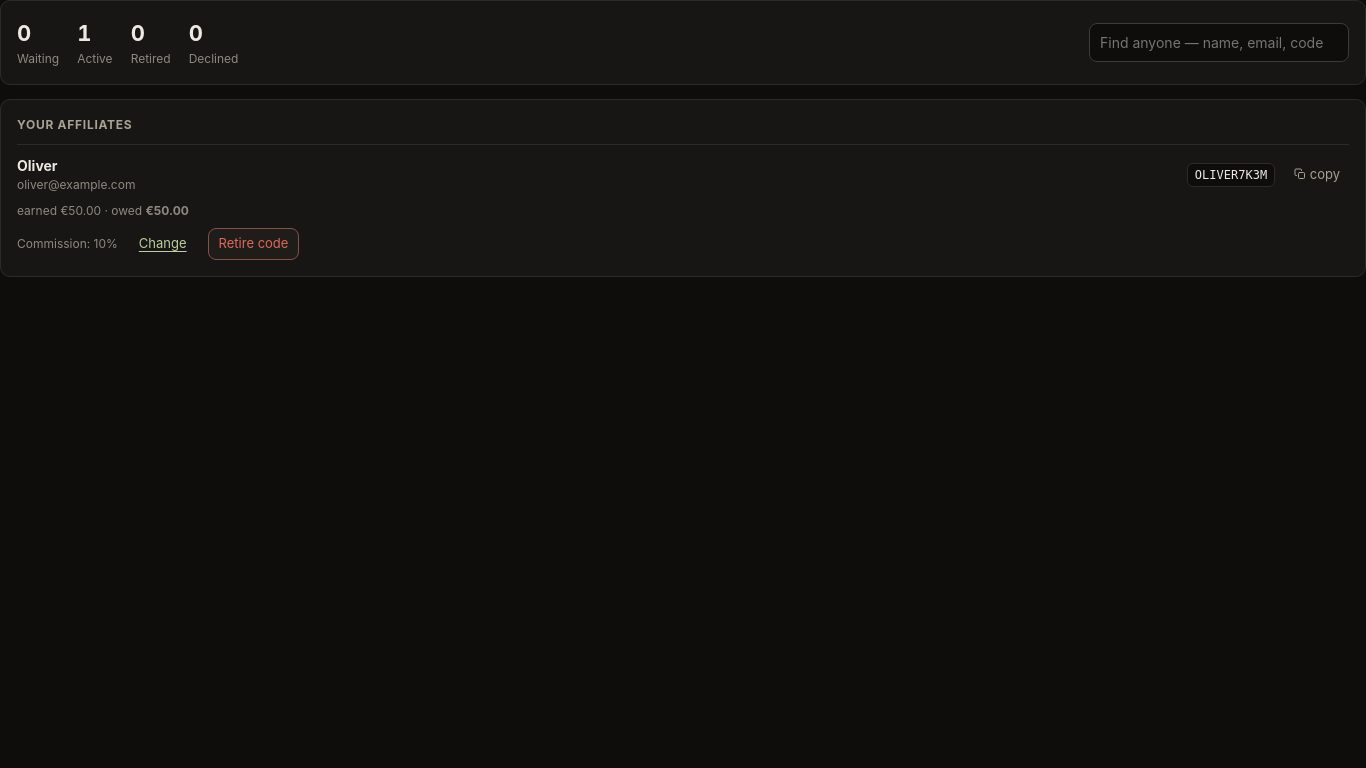
Test: retiring a code › names the code, and promises their earnings are kept
Click the button "Retire code".
click(254, 244)  # box [208,228,299,260]
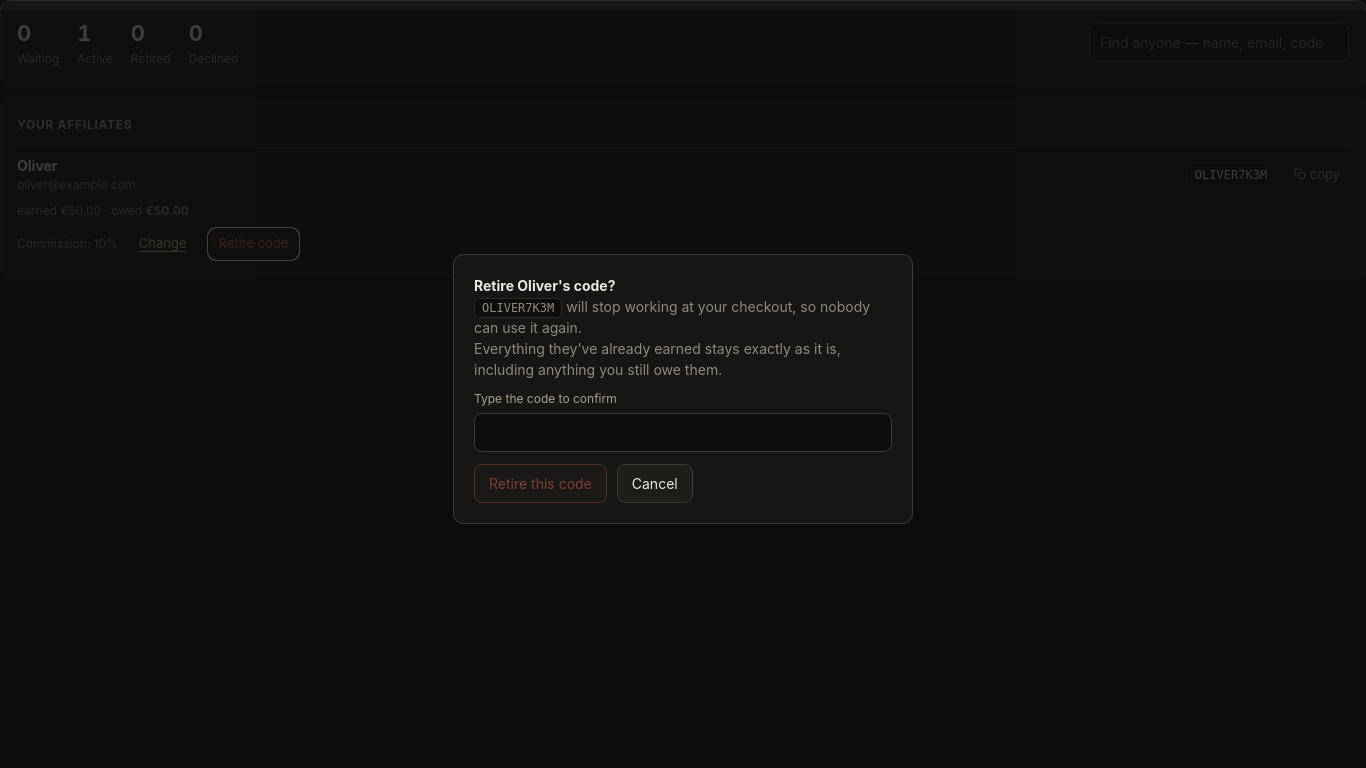
Expected: the text "Retire Oliver's code?" shows "OLIVER7K3M", [482,301,554,315]
Expected: the text "Retire Oliver's code?" shows "stop working at your checkout", [474,298,870,336]
Expected: the text "Retire Oliver's code?" shows "everything they've already earned stays", [474,340,841,378]
